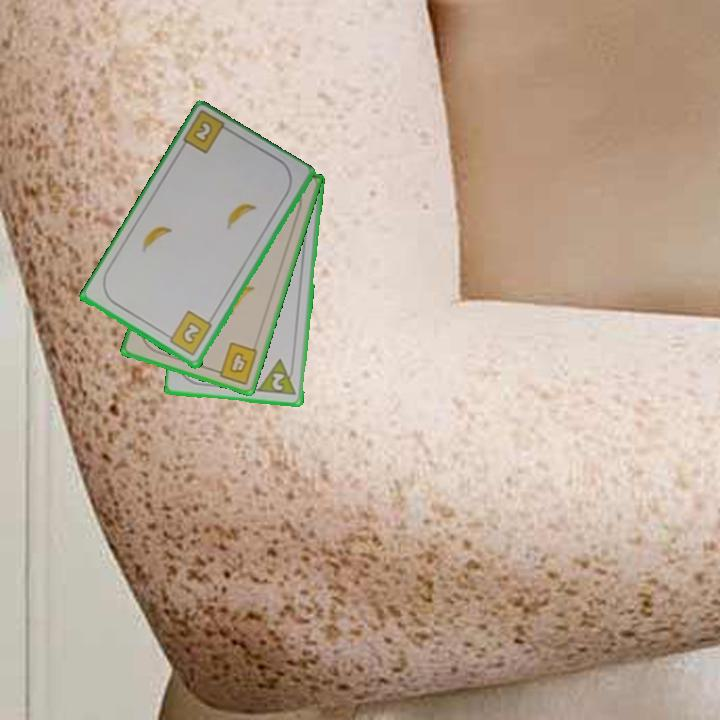2b: (162, 308, 215, 359), (189, 117, 216, 146)
2p: (255, 356, 299, 399)
4b: (209, 339, 261, 387)
